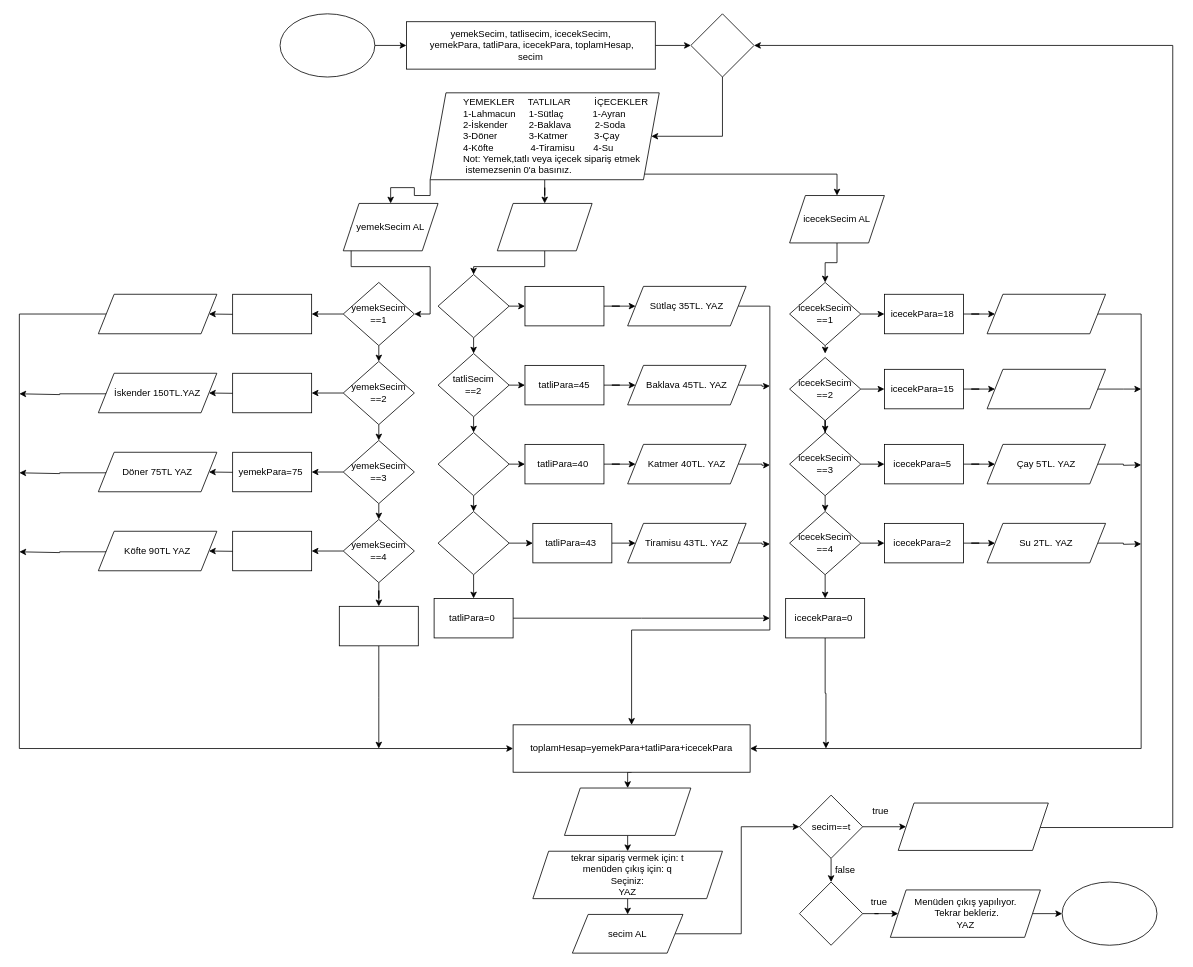
This 1193x967 diagram has some shape labels left out. The shapes that lost their labels are listed below. From the top down, each one's centre as x and y in pixels, then its label:
At pixel 327 45: "BAŞLA".
At pixel 722 45: "while (true)".
At pixel 544 227: "tatliSecim AL".
At pixel 157 313: "Lahmacun 80TL. YAZ".
At pixel 272 313: "yemekPara=80".
At pixel 473 306: "tatliSecim ==1".
At pixel 564 306: "tatliPara=35".
At pixel 1046 313: "Ayran 18TL. YAZ".
At pixel 272 392: "yemekPara=150".
At pixel 1046 389: "Soda 15TL. YAZ".
At pixel 473 464: "tatliSecim ==3".
At pixel 272 550: "yemekPara=90".
At pixel 473 543: "tatliSecim ==4".
At pixel 378 626: "yemekPara=0".
At pixel 627 811: "toplam hesap: ödeme yapabilirsiniz. YAZ".
At pixel 972 826: "Yeniden sipariş verebilirsiniz. YAZ".
At pixel 831 913: "secim==q".
At pixel 1109 913: "DUR".
